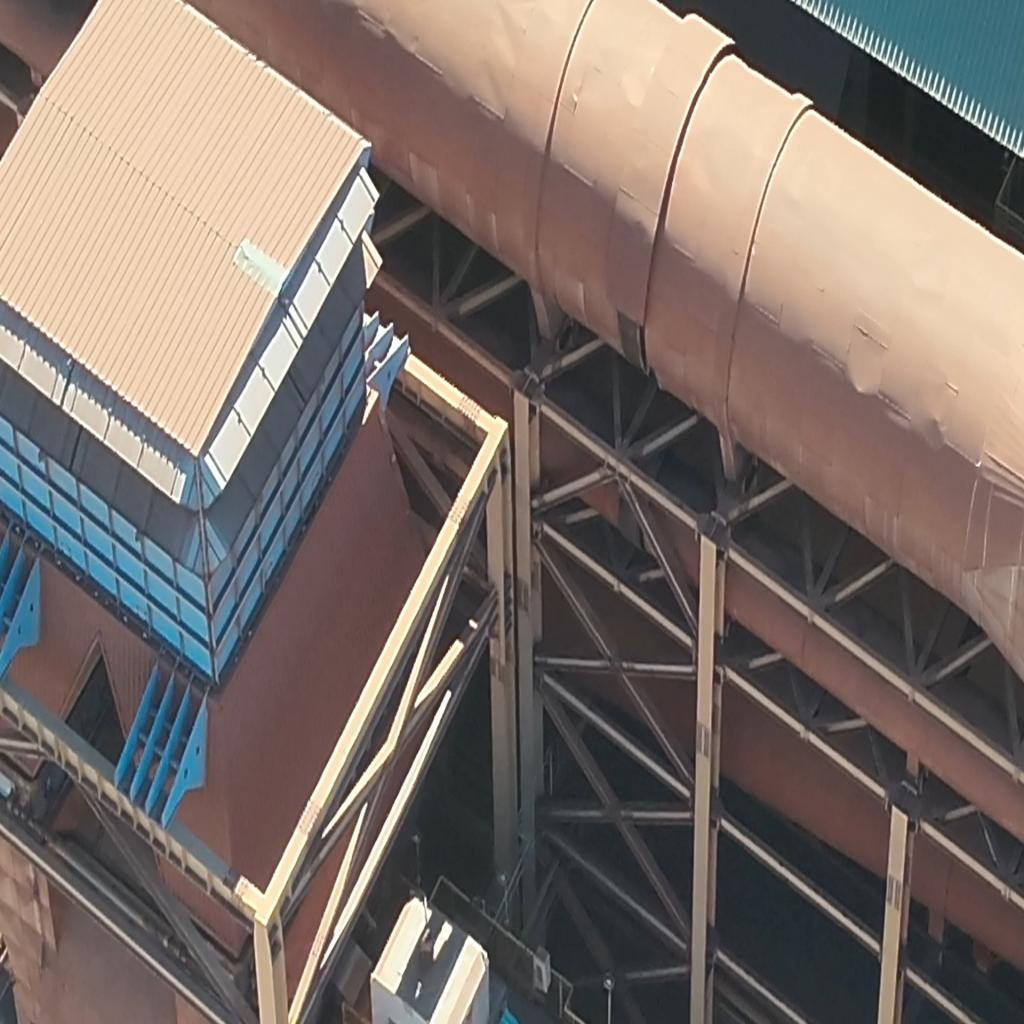Failures: (619, 313, 648, 371)
